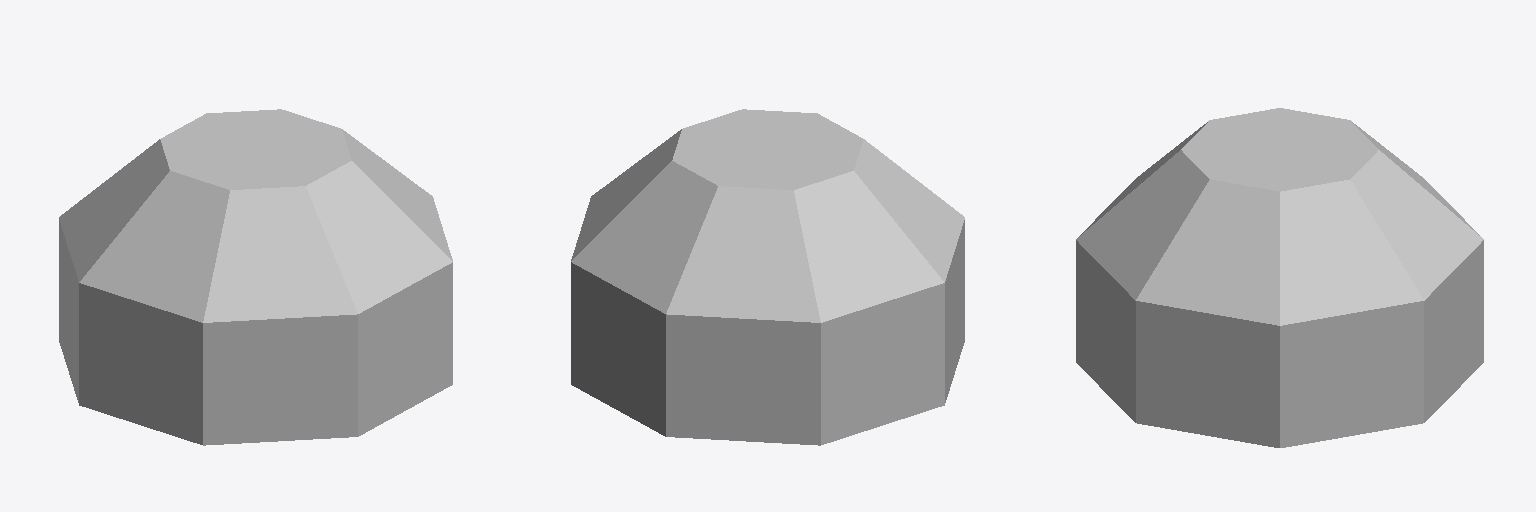
File: ropeEnd.obj
3 views of the same model, side by side, from view 1: azimuth 30°, elevation 25°; view 2: azimuth 150°, elevation 25°; view 3: azimuth 270°, elevation 25° (orthographic).
Parts seen in each view (by area): view 1: pCylinder40; view 2: pCylinder40; view 3: pCylinder40.
Boxes of the visible parts, x1=… form: pCylinder40: x1=59, y1=109, x2=452, y2=445; pCylinder40: x1=571, y1=109, x2=964, y2=445; pCylinder40: x1=1076, y1=108, x2=1483, y2=447.
Size of the model in its own units: 0.2059 by 0.1182 by 0.2059.